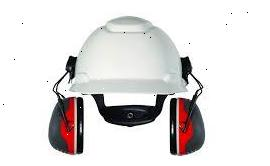Ear_protector: (162, 94, 208, 158), (45, 94, 86, 159)
Hard_hat: (62, 12, 192, 99)
